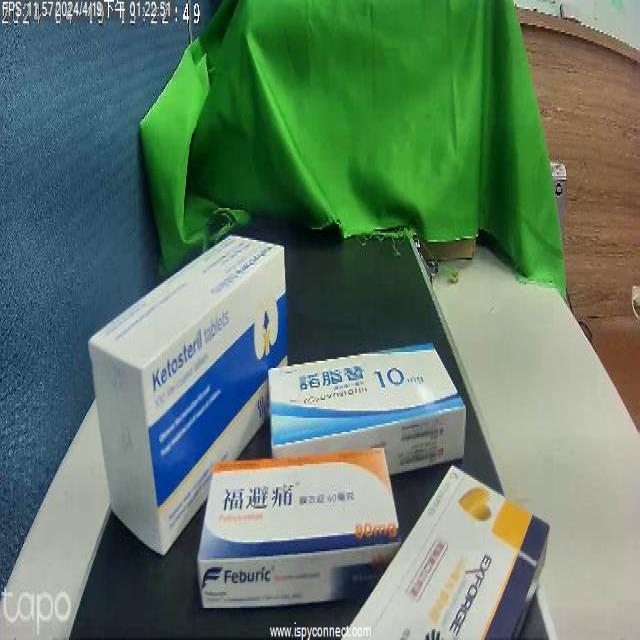box: (84, 240, 290, 540), (194, 461, 384, 623), (354, 488, 524, 640), (275, 337, 450, 454)
